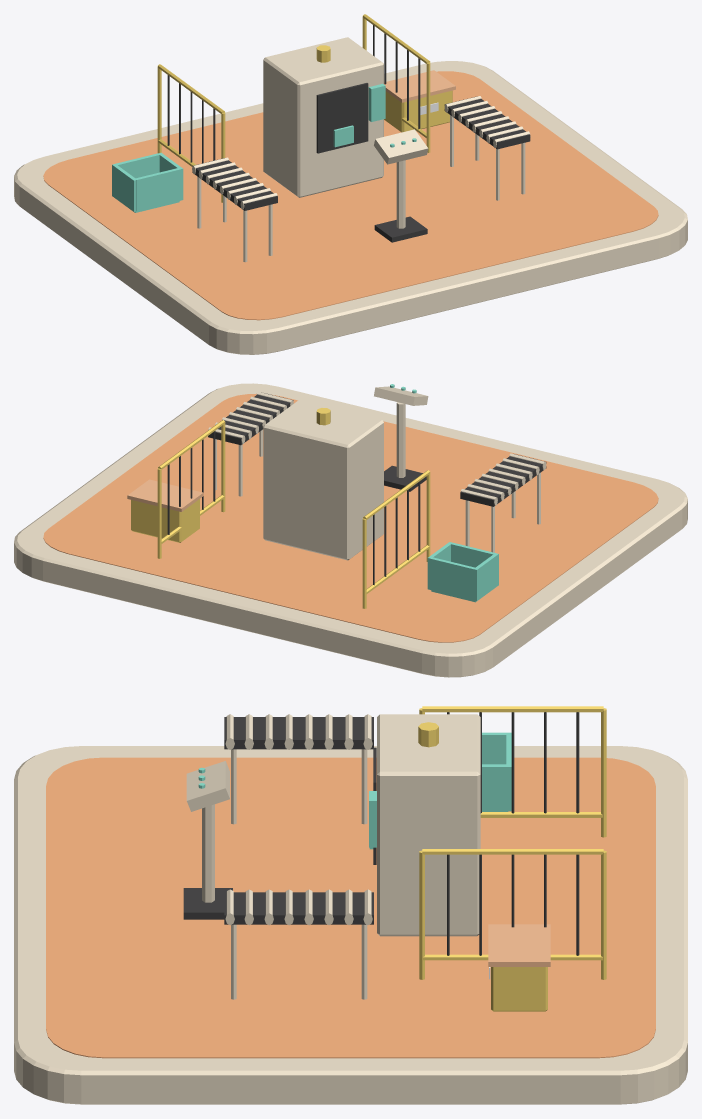
The model's file is room.fbx.
3 renders of one model, top to bottom at view 1: azimuth 30°, elevation 25°; view 2: azimuth 150°, elevation 25°; view 3: azimuth 270°, elevation 25°, orthographic. The views are drawn at different scales.
Parts seen in each view (by area): view 1: COM-02 Floor Surface, COM-01 Rounded Base Direct, Machine, Cabinet window, Box, Belt.001, Belt, Bin end, Lid, Control console, Bin side, Foot (+3 smaller); view 2: COM-02 Floor Surface, COM-01 Rounded Base Direct, Machine, Box, Belt, Bin end.001, Belt.001, Lid, Bin side, Stand, Bin end, Control console (+1 smaller); view 3: COM-02 Floor Surface, COM-01 Rounded Base Direct, Machine, Belt, Belt.001, Lid, Box, Control console, Bin side.001, Rail.001, Stand, Foot (+7 smaller).
Part boxes in pixels (left/top/right/bottom): COM-02 Floor Surface: left=43, top=71, right=658, bottom=320; COM-01 Rounded Base Direct: left=14, top=61, right=687, bottom=354; Machine: left=263, top=37, right=383, bottom=197; Cabinet window: left=316, top=83, right=368, bottom=153; Box: left=384, top=90, right=452, bottom=132; Belt.001: left=444, top=96, right=530, bottom=149; Belt: left=192, top=158, right=277, bottom=210; Bin end: left=136, top=168, right=180, bottom=211; Lid: left=384, top=70, right=455, bottom=102; Control console: left=374, top=129, right=428, bottom=164; Bin side: left=112, top=164, right=136, bottom=211; Foot: left=374, top=216, right=427, bottom=242; COM-02 Floor Surface: left=43, top=393, right=658, bottom=642; COM-01 Rounded Base Direct: left=14, top=383, right=687, bottom=677; Machine: left=263, top=400, right=383, bottom=560; Box: left=131, top=499, right=199, bottom=542; Belt: left=460, top=454, right=546, bottom=506; Bin end.001: left=430, top=557, right=475, bottom=600; Belt.001: left=208, top=392, right=293, bottom=445; Lid: left=127, top=479, right=203, bottom=511; Bin side: left=474, top=553, right=498, bottom=601; Stand: left=396, top=402, right=405, bottom=477; Bin end: left=450, top=542, right=495, bottom=567; Control console: left=374, top=386, right=428, bottom=405; COM-02 Floor Surface: left=46, top=757, right=655, bottom=1058; COM-01 Rounded Base Direct: left=14, top=746, right=687, bottom=1104; Machine: left=377, top=714, right=480, bottom=936; Belt: left=224, top=717, right=373, bottom=749; Belt.001: left=224, top=892, right=373, bottom=924; Lid: left=488, top=924, right=550, bottom=966; Box: left=491, top=967, right=547, bottom=1011; Control console: left=186, top=761, right=229, bottom=811; Bin side.001: left=482, top=764, right=511, bottom=811; Rail.001: left=422, top=706, right=603, bottom=712; Stand: left=202, top=804, right=214, bottom=902; Foot: left=183, top=888, right=232, bottom=919.
Bounding box in the file's own units: 600 × 184 × 520.
